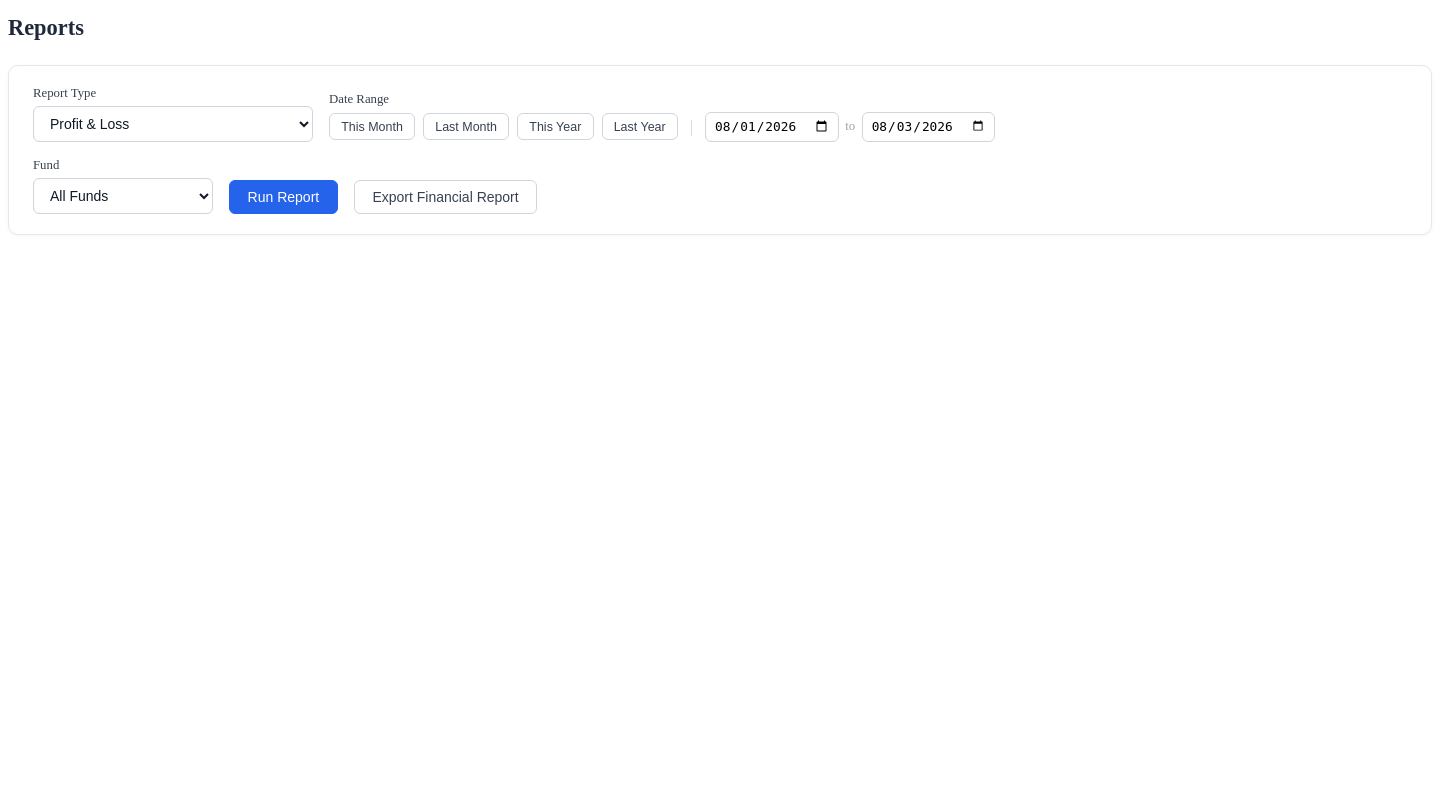
Test: Reports financial export › shows error for failed Trial Balance fetch
Click the button "Export Financial Report" at (446, 197), box [354,180,537,214]
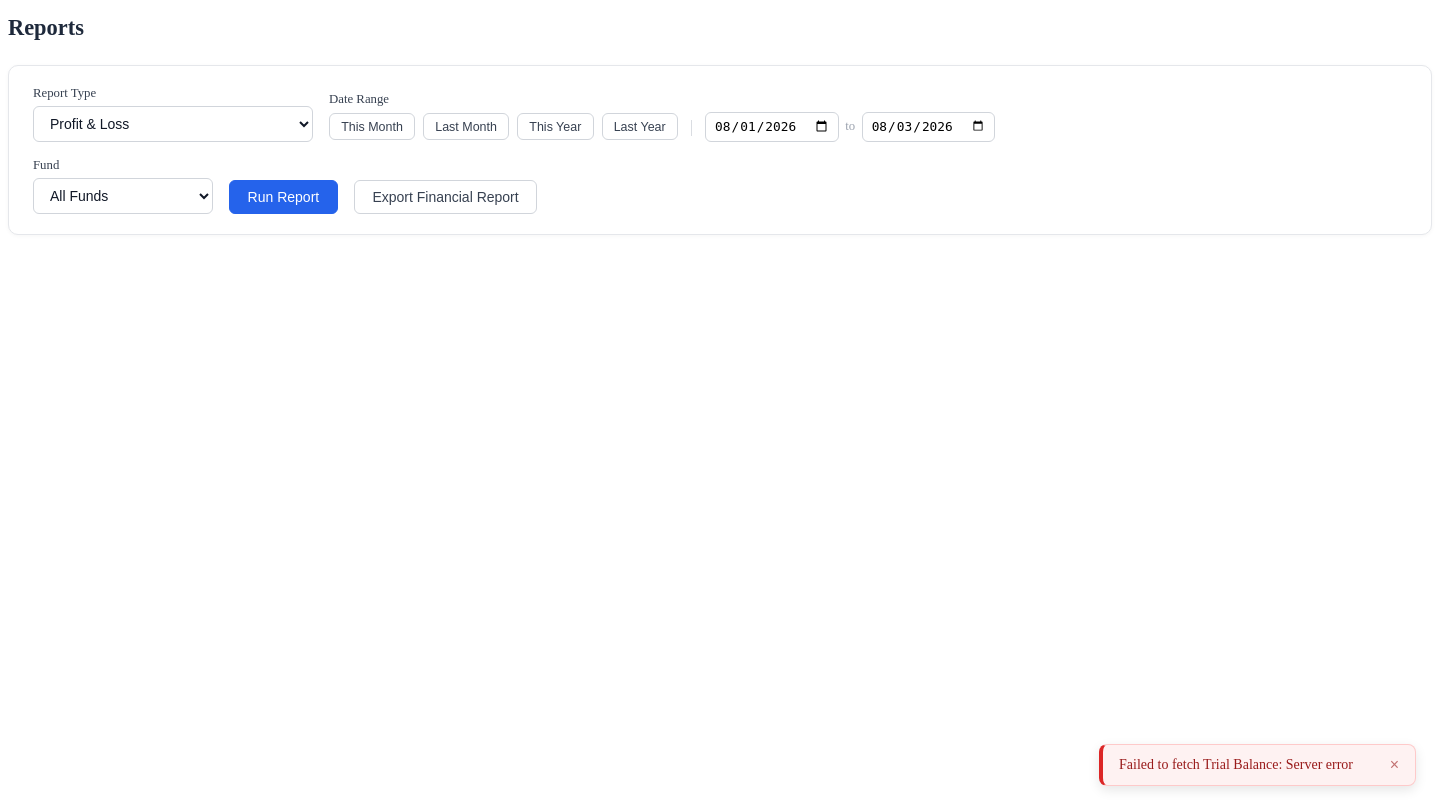
Expected: the text "Failed to fetch Trial Balance" is shown, [1119,757,1353,772]
